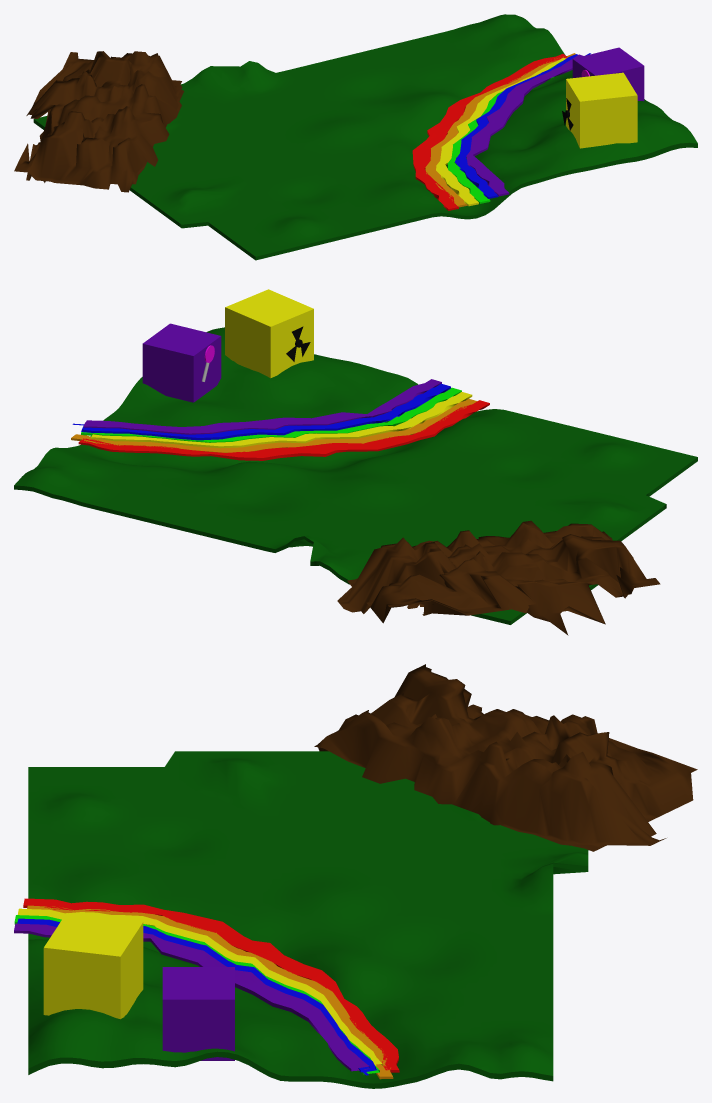
The model's file is TempWorld.fbx.
3 renders of one model, top to bottom at view 1: azimuth 30°, elevation 25°; view 2: azimuth 150°, elevation 25°; view 3: azimuth 270°, elevation 25°, orthographic. The views are drawn at different scales.
Visible parts, largest first — view 1: pCube1, pCube10, pCube9, pCube2, pCube7, pCube8, pCube4, pCube3, pCube6, pCube5; view 2: pCube1, pCube10, pCube9, pCube8, pCube2, pCube7, pCube4, pCube6, pCube3, pCube5; view 3: pCube1, pCube10, pCube9, pCube8, pCube2, pCube7, pCube4, pCube3, pCube6, pCube5.
Boxes of the visible parts, box(x1,y1,x2,y2) form: pCube1: box(33, 14, 697, 260); pCube10: box(14, 51, 184, 192); pCube9: box(566, 72, 637, 148); pCube2: box(412, 54, 567, 210); pCube7: box(466, 54, 582, 196); pCube8: box(572, 47, 644, 101); pCube4: box(436, 57, 565, 206); pCube3: box(425, 53, 575, 207); pCube6: box(455, 53, 590, 198); pCube5: box(447, 61, 561, 203); pCube1: box(14, 327, 697, 624); pCube10: box(337, 520, 660, 635); pCube9: box(225, 289, 313, 378); pCube8: box(142, 323, 221, 402); pCube2: box(78, 400, 489, 460); pCube7: box(83, 379, 441, 434); pCube4: box(91, 392, 472, 448); pCube6: box(72, 383, 450, 440); pCube3: box(71, 399, 477, 452); pCube5: box(81, 387, 461, 442); pCube1: box(28, 751, 588, 1088); pCube10: box(314, 664, 697, 851); pCube9: box(43, 913, 143, 1019); pCube8: box(162, 967, 234, 1060); pCube2: box(23, 898, 399, 1072); pCube7: box(14, 923, 369, 1071); pCube4: box(17, 908, 382, 1065); pCube3: box(27, 905, 393, 1079); pCube6: box(17, 918, 377, 1075); pCube5: box(14, 915, 379, 1074).
Bounding box in the file's own units: 1956 × 298 × 1450.
